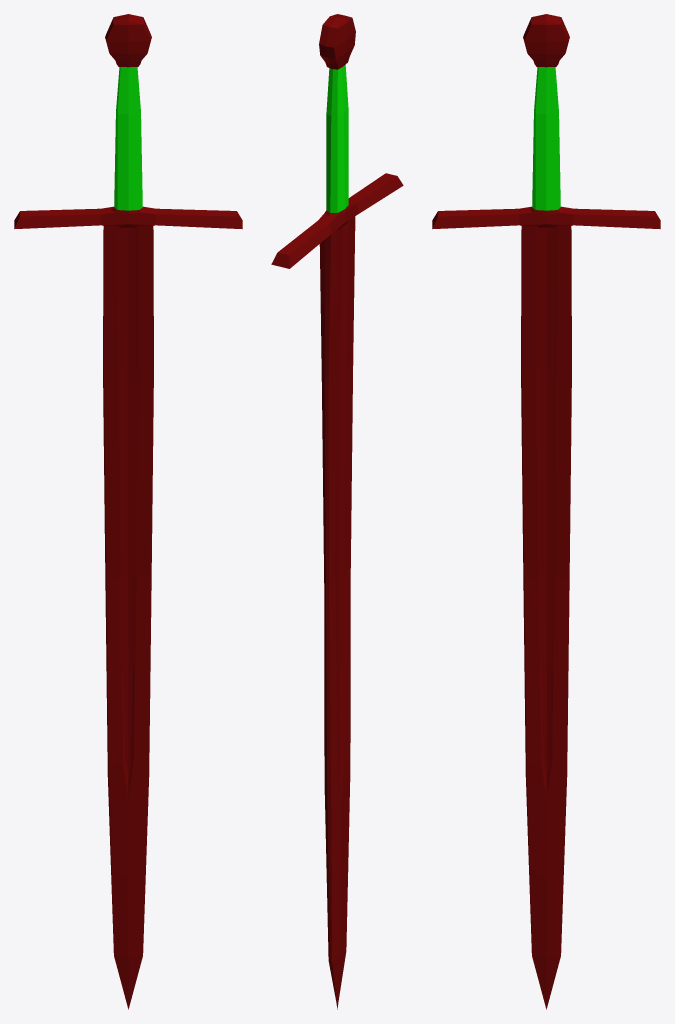
File: Longsword.fbx
3 renders of one model, left to right at view 1: azimuth 90°, elevation 25°; view 2: azimuth 150°, elevation 25°; view 3: azimuth 270°, elevation 25°, orthographic.
Visible parts, largest first — view 1: Plane; view 2: Plane; view 3: Plane.
Part boxes in pixels (x1,y1,x2,y2): Plane: (14,14,242,1009); Plane: (271,14,403,1009); Plane: (432,14,660,1009).
Bounding box in the file's own units: 0.00412 × 0.1979 × 0.0412.
